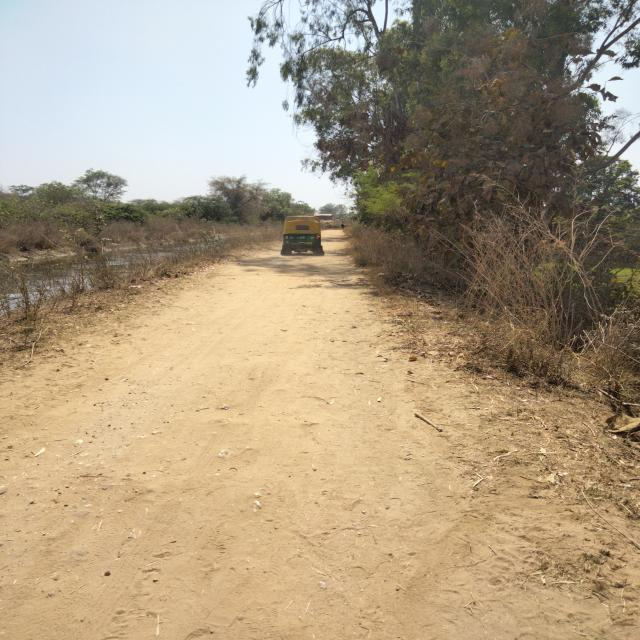Autorickshaw: (261, 206, 331, 264)
